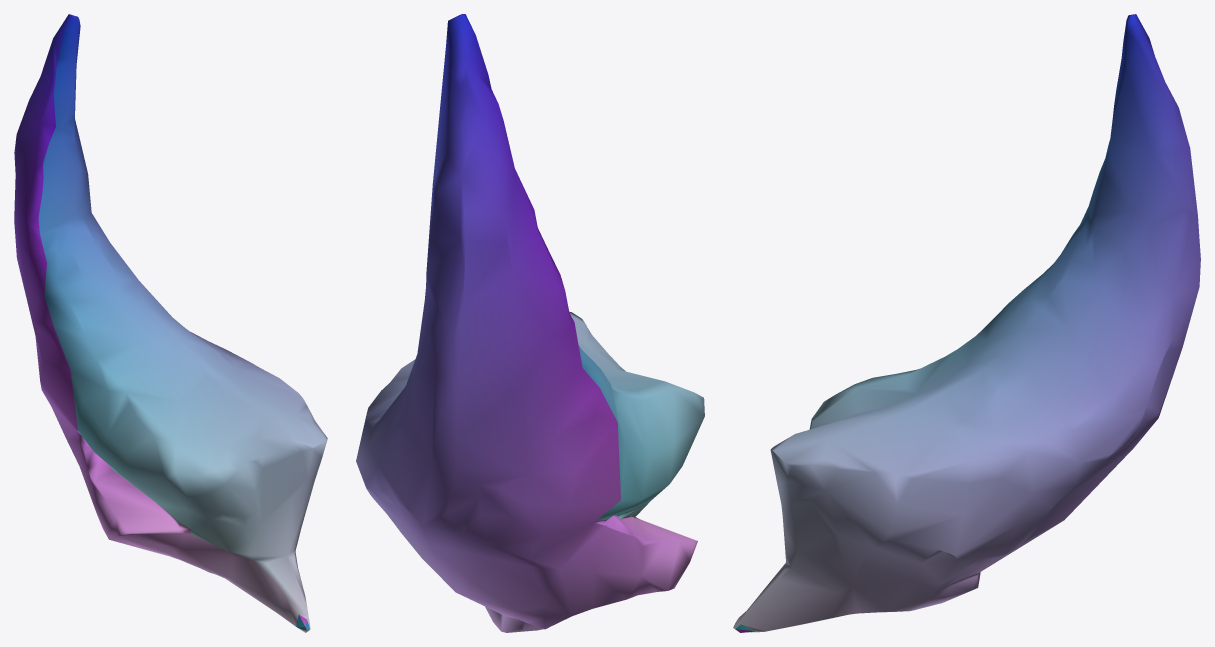
The picture shows the model from 3 angles, left to right: view 1: azimuth 30°, elevation 25°; view 2: azimuth 150°, elevation 25°; view 3: azimuth 270°, elevation 25°; orthographic projection. The views are drawn at different scales.
Parts seen in each view (by area): view 1: SM_US_TuftSedge_01_LOD0; view 2: SM_US_TuftSedge_01_LOD0; view 3: SM_US_TuftSedge_01_LOD0.
Part boxes in pixels (x1=…): SM_US_TuftSedge_01_LOD0: x1=14, y1=14, x2=327, y2=632; SM_US_TuftSedge_01_LOD0: x1=356, y1=14, x2=704, y2=632; SM_US_TuftSedge_01_LOD0: x1=733, y1=14, x2=1200, y2=632.
Size of the model in its own units: 6.73 by 16.72 by 12.16.
